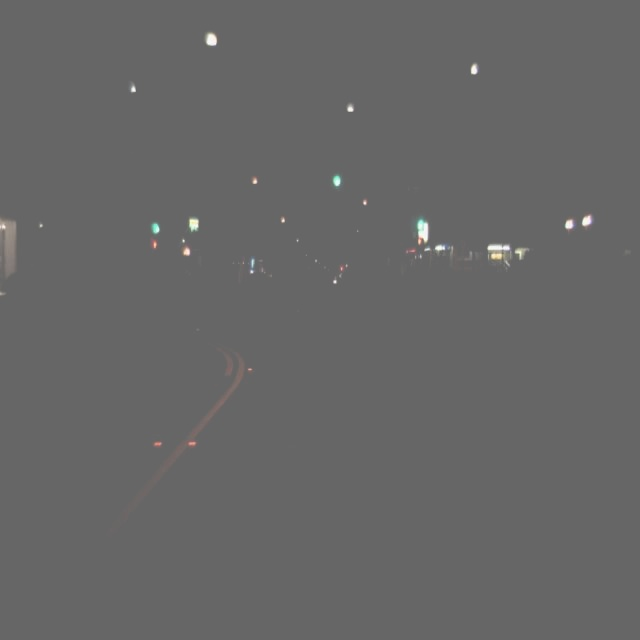go: (334, 176, 340, 184), (154, 224, 158, 233), (419, 223, 422, 229)
go traffic light: (330, 164, 342, 188), (151, 210, 160, 238), (418, 212, 422, 232)
